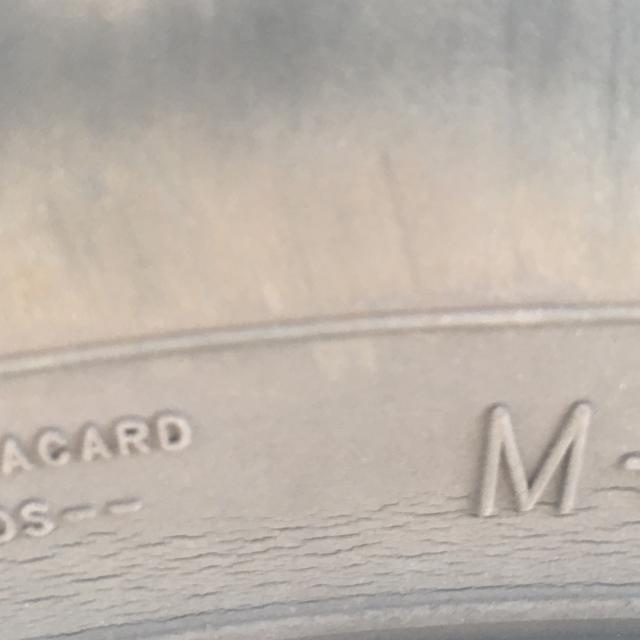Cracks: (0, 487, 639, 640)
